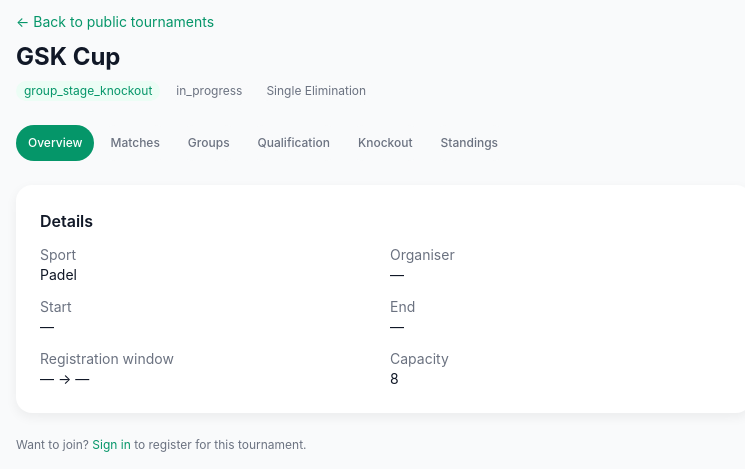
Step 4E — Public GSK UI (unauthenticated, read-only) › renders standings and exposes no admin/private data
Expected: the heading "GSK Cup" is shown, [16,42,120,71]
Click the tab "Standings": [469, 143] box [429,125,510,161]
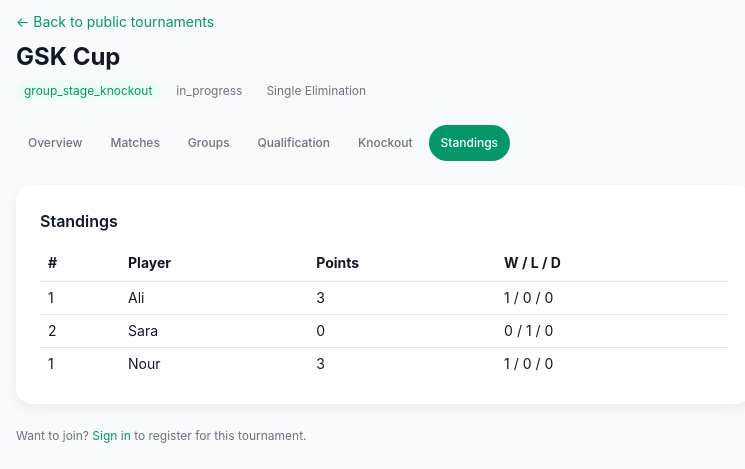
Now the heading "Standings" is shown, box [40,211,118,231]
